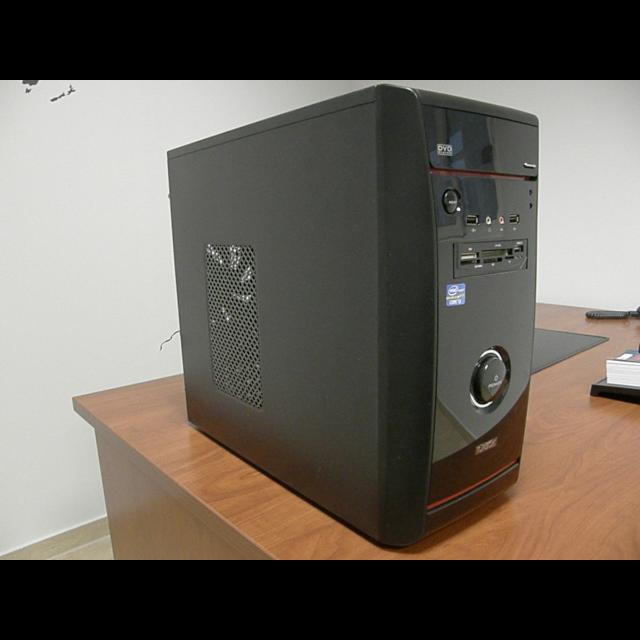Desktop-PC: (170, 86, 534, 530)
